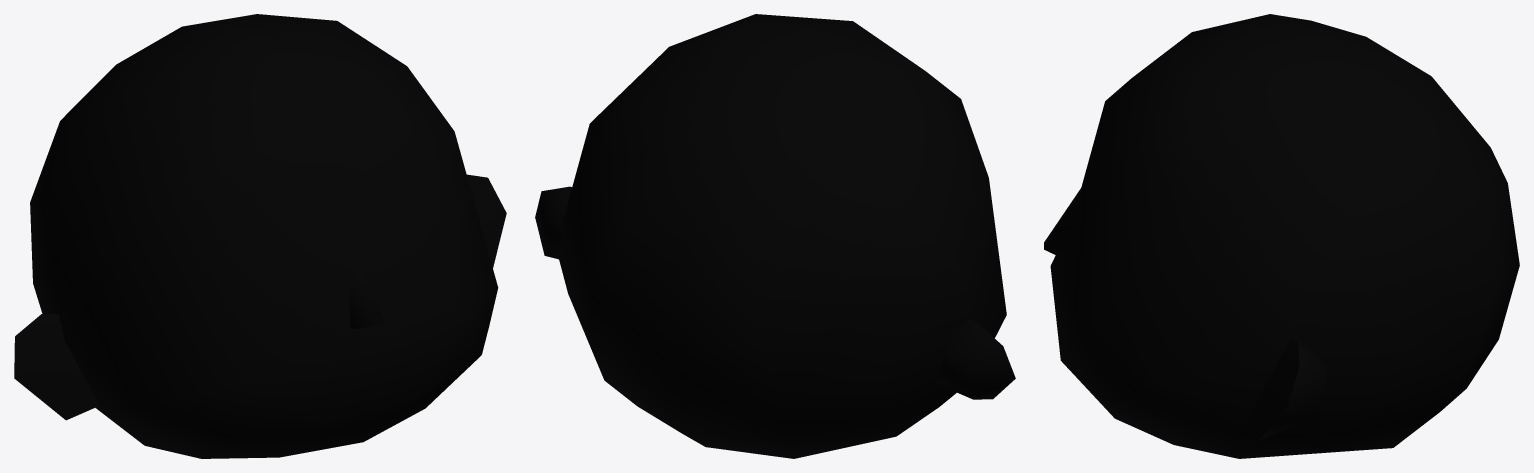
File: bald_ear.dae
3 renders of one model, left to right at view 1: azimuth 30°, elevation 25°; view 2: azimuth 150°, elevation 25°; view 3: azimuth 270°, elevation 25°, orthographic. The views are drawn at different scales.
Parts seen in each view (by area): view 1: bald_ear; view 2: bald_ear; view 3: bald_ear.
Part boxes in pixels (x1,y1,x2,y2): bald_ear: (14,14,506,458); bald_ear: (535,14,1015,458); bald_ear: (1044,14,1519,458).
Size of the model in its own units: 26.61 by 20.23 by 22.11.
1 material, 1 textured.
